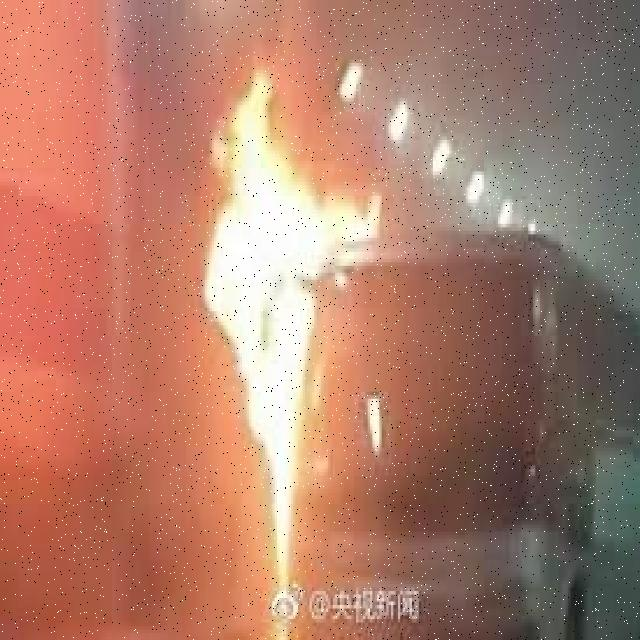fire: (194, 68, 377, 640)
